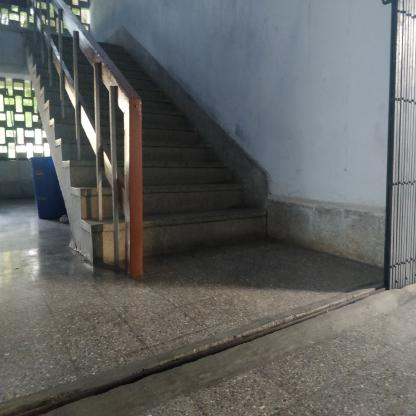stairs: (145, 155, 252, 268)
